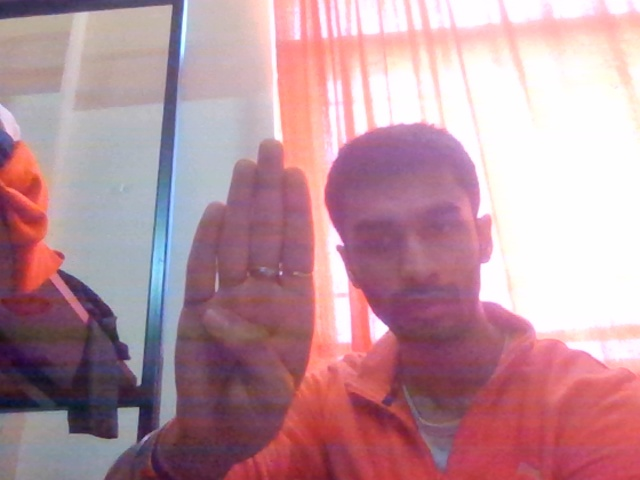B: (142, 138, 327, 479)
